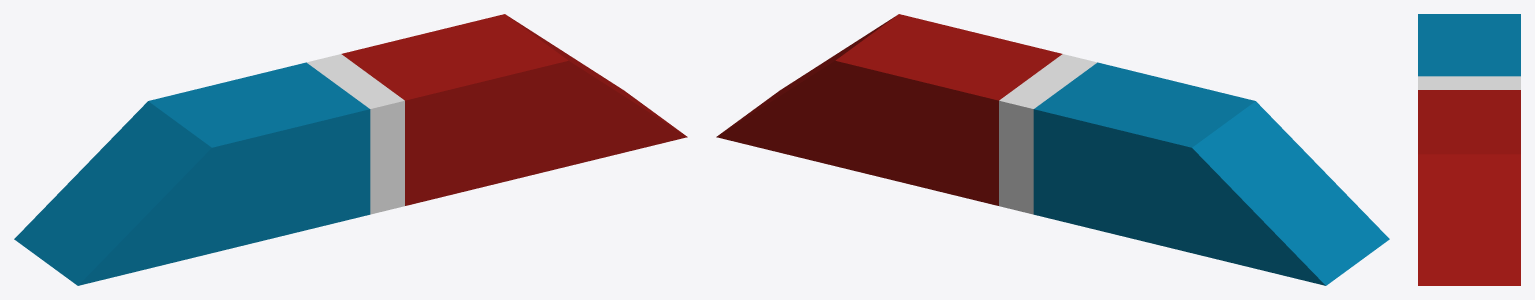
Rendered from GadeRamp.fbx.
3 renders of one model, left to right at view 1: azimuth 30°, elevation 25°; view 2: azimuth 150°, elevation 25°; view 3: azimuth 270°, elevation 25°, orthographic. The views are drawn at different scales.
Visible parts, largest first — view 1: Backup\.005; view 2: Backup\.005; view 3: Backup\.005.
Part boxes in pixels (x1=…): Backup\.005: x1=14, y1=14, x2=687, y2=285; Backup\.005: x1=716, y1=14, x2=1389, y2=285; Backup\.005: x1=1418, y1=14, x2=1520, y2=285.
Bounding box in the file's own units: 99.57 × 16.45 × 18.05.
